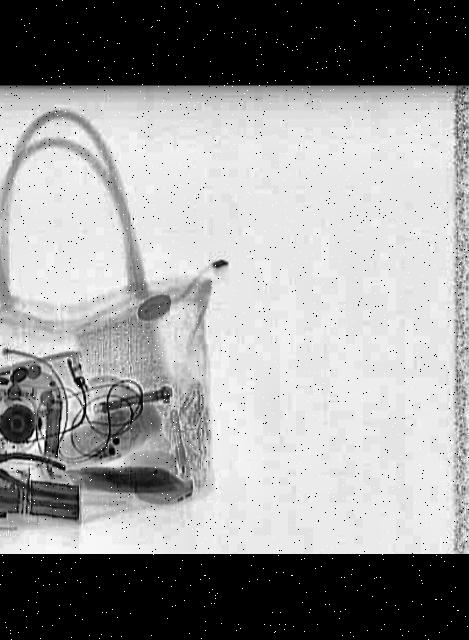Pliers: (0, 433, 78, 501)
